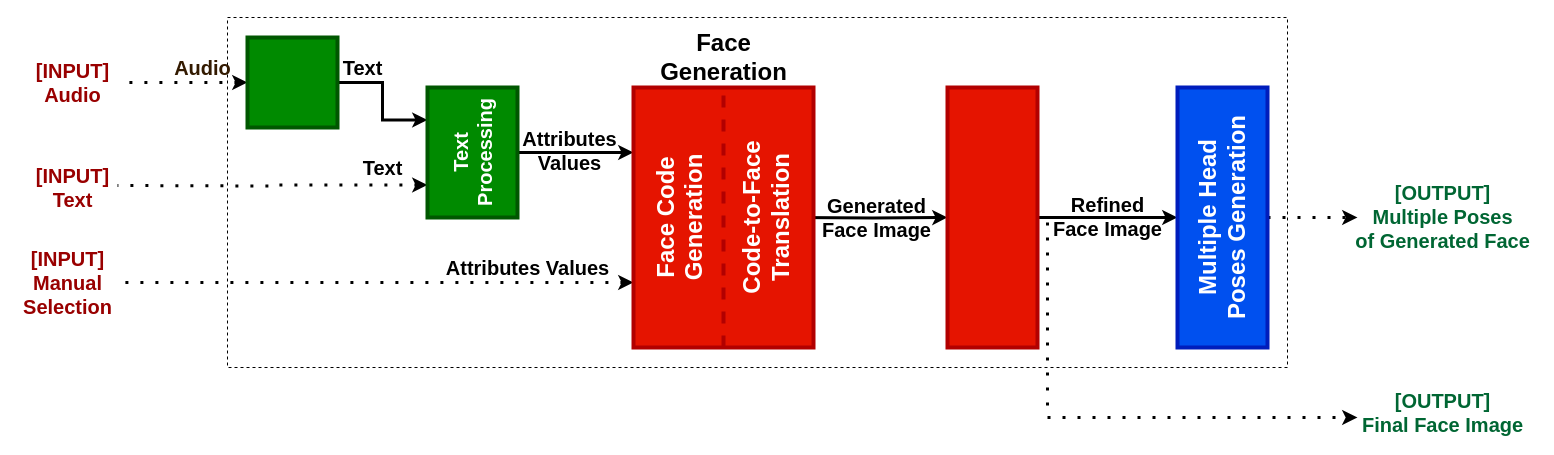
The diagram is 1554 pixels wide and 455 high, and some of its shapes have lost their labels. The box of each missing label's shape, as (x1, y1, x2, y2) in pixels:
Face Refinement: (945, 85, 1039, 349)
Speech Recognition: (245, 35, 339, 129)
